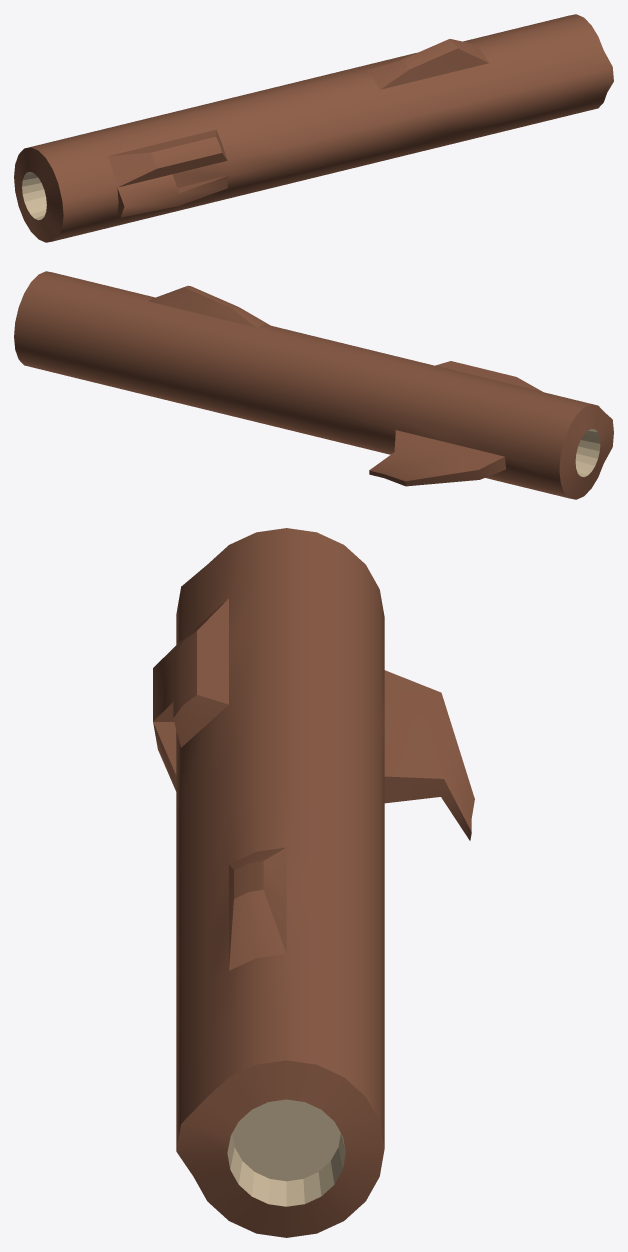
The model's file is Log1.fbx.
3 views of the same model, one above another, from view 1: azimuth 30°, elevation 25°; view 2: azimuth 150°, elevation 25°; view 3: azimuth 270°, elevation 25° (orthographic). The views are drawn at different scales.
Parts seen in each view (by area): view 1: Log_1; view 2: Log_1; view 3: Log_1.
Part boxes in pixels (<box>): Log_1: <box>14,14,613,242</box>; Log_1: <box>14,271,613,499</box>; Log_1: <box>153,528,474,1237</box>.
Size of the model in its own units: 13.05 by 2.39 by 3.29.
